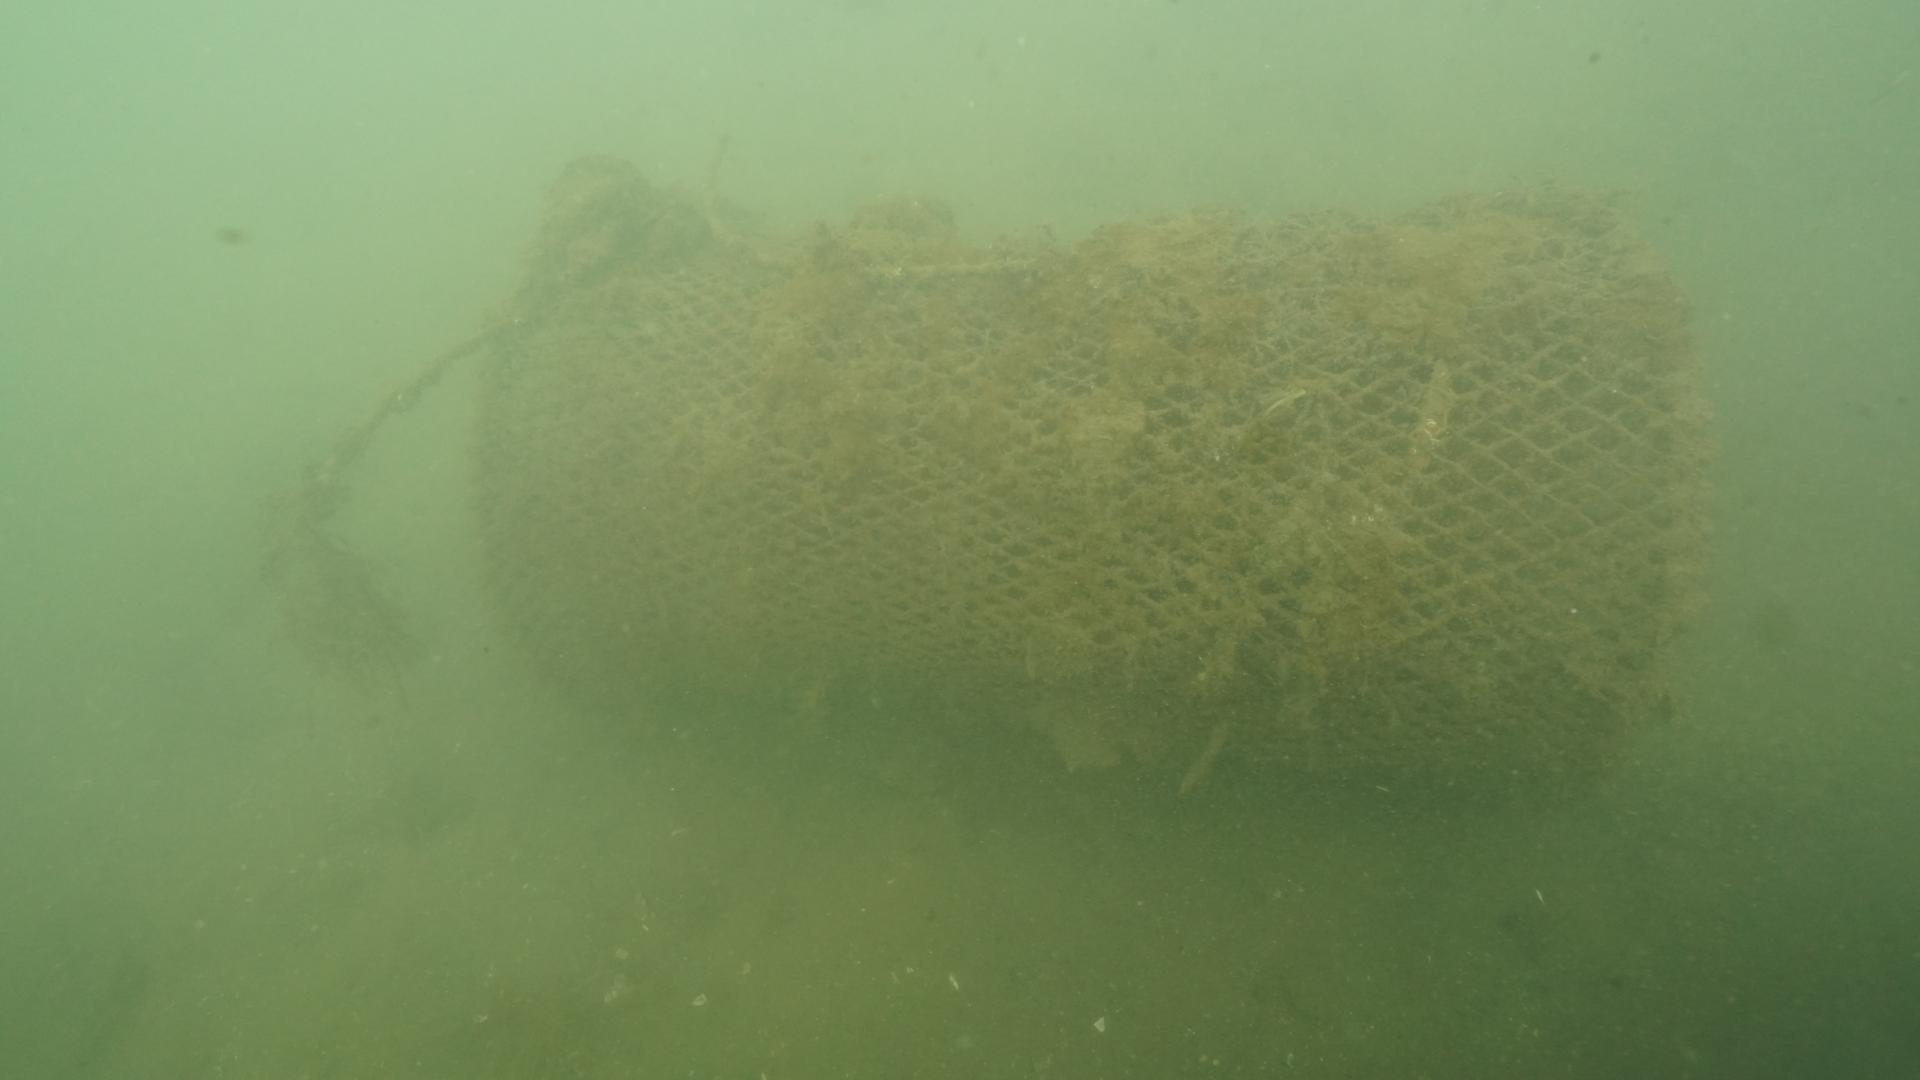spring fish trap: (464, 156, 1717, 829)
